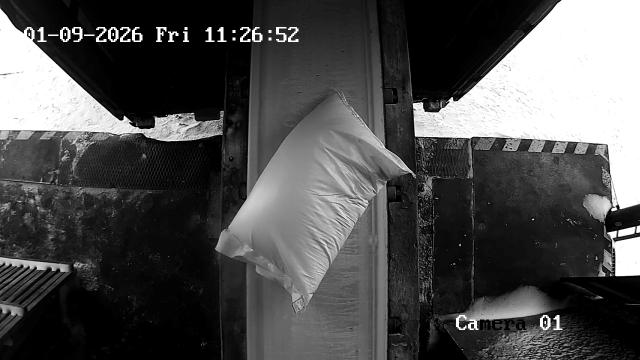bag: (216, 92, 414, 312)
